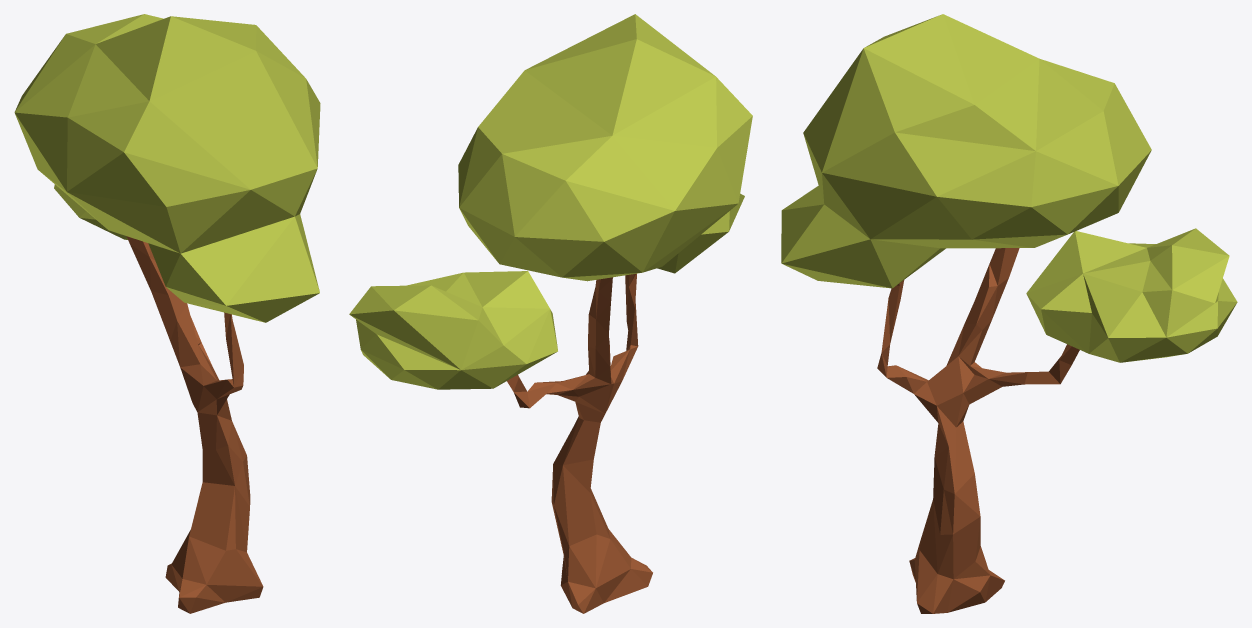
Rendered from New_Tree_11.fbx.
The picture shows the model from 3 angles, left to right: view 1: azimuth 30°, elevation 25°; view 2: azimuth 150°, elevation 25°; view 3: azimuth 270°, elevation 25°; orthographic projection. The views are drawn at different scales.
Visible parts, largest first — view 1: Icosphere.086, Cube.017, Icosphere.095; view 2: Icosphere.086, Icosphere.095, Cube.017; view 3: Icosphere.086, Icosphere.095, Cube.017.
Boxes of the visible parts, x1,y1,x2,y2 form: Icosphere.086: (14, 14, 320, 322); Cube.017: (126, 236, 263, 613); Icosphere.095: (54, 184, 127, 239); Icosphere.086: (458, 14, 752, 281); Icosphere.095: (349, 271, 557, 389); Cube.017: (507, 273, 652, 613); Icosphere.086: (781, 14, 1151, 288); Icosphere.095: (1026, 228, 1237, 362); Cube.017: (877, 248, 1079, 613).
Size of the model in its own units: 532 by 1047 by 763.
